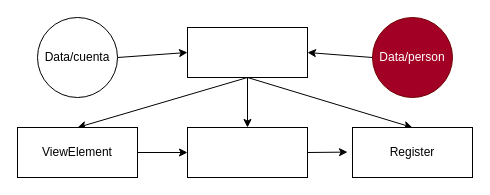
The diagram is 490 pixels wide and 195 high, and some of its shapes have lost their labels. Here are the shapes that lost their labels. From the top down, the centre of each, then its label:
At point 247,52: "Index".
At point 247,152: "Login".
